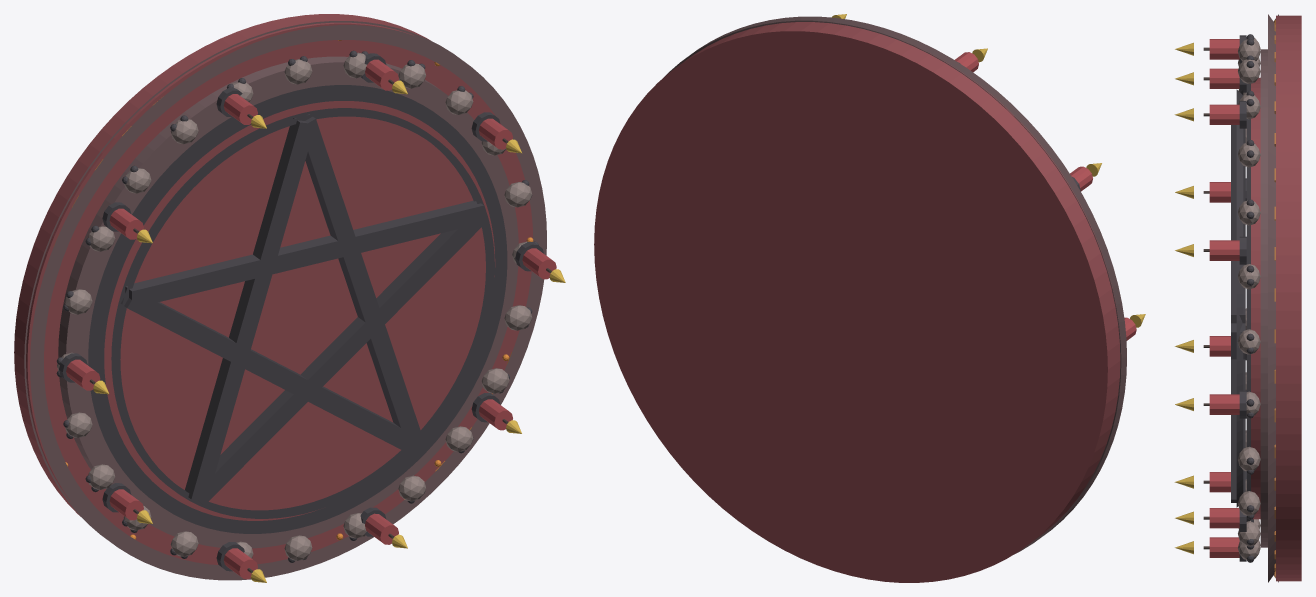
File: altar_ritual_blender_unity.glb
The picture shows the model from 3 angles, left to right: view 1: azimuth 30°, elevation 25°; view 2: azimuth 150°, elevation 25°; view 3: azimuth 270°, elevation 25°; orthographic projection. The views are drawn at different scales.
Parts seen in each view (by area): view 1: Disco_ritual_001, Base_inferior_001, Borde_exterior_001, Plataforma_media_001, Anillo_oscuro_001, Circulo_pentagrama_001, Pentagrama_piedra_001, Pentagrama_piedra_005, Pentagrama_piedra_003, Pentagrama_piedra_004, Pentagrama_piedra_002; view 2: Base_inferior_001, Borde_exterior_001; view 3: Base_inferior_001, Borde_exterior_001, Plataforma_media_001, Disco_ritual_001, Circulo_pentagrama_001, Pentagrama_piedra_004, Anillo_oscuro_001, Velas_rojas_001, Velas_rojas_002, Velas_rojas_003, Velas_rojas_010, Velas_rojas_005 (+22 smaller).
Boxes of the visible parts, x1,y1,x2,y2 form: Disco_ritual_001: (104, 101, 495, 520); Base_inferior_001: (14, 14, 533, 564); Borde_exterior_001: (24, 21, 546, 580); Plataforma_media_001: (58, 56, 518, 548); Anillo_oscuro_001: (88, 85, 507, 533); Circulo_pentagrama_001: (111, 108, 494, 518); Pentagrama_piedra_001: (185, 118, 315, 500); Pentagrama_piedra_005: (125, 200, 483, 307); Pentagrama_piedra_003: (198, 210, 488, 505); Pentagrama_piedra_004: (300, 114, 424, 450); Pentagrama_piedra_002: (120, 293, 420, 454); Base_inferior_001: (594, 22, 1120, 582); Borde_exterior_001: (664, 16, 1126, 554); Base_inferior_001: (1276, 15, 1301, 581); Borde_exterior_001: (1268, 14, 1278, 582); Plataforma_media_001: (1260, 49, 1267, 547); Disco_ritual_001: (1251, 77, 1260, 519); Circulo_pentagrama_001: (1236, 89, 1243, 507); Pentagrama_piedra_004: (1231, 125, 1245, 499); Anillo_oscuro_001: (1246, 83, 1253, 522); Velas_rojas_001: (1209, 394, 1239, 414); Velas_rojas_002: (1209, 240, 1239, 260); Velas_rojas_003: (1209, 104, 1239, 124); Velas_rojas_010: (1209, 508, 1239, 528); Velas_rojas_005: (1209, 68, 1239, 88).
Size of the model in its own units: 9.36 by 9.36 by 2.09.
